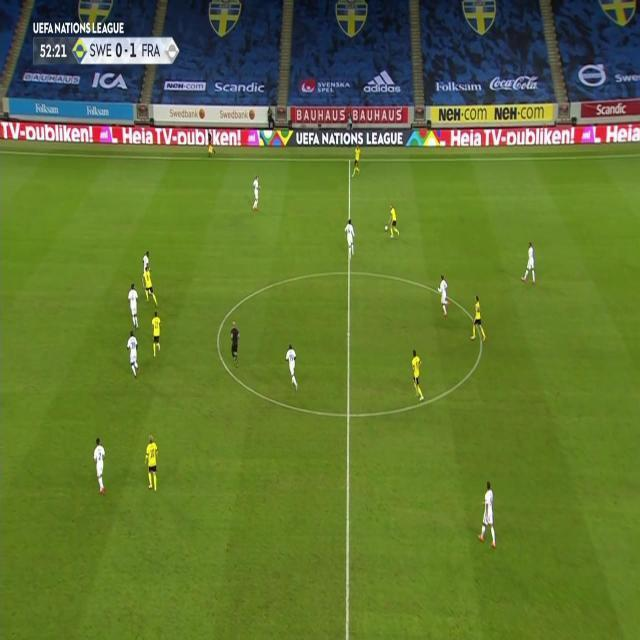player: (477, 481, 498, 548), (91, 436, 108, 496), (144, 431, 160, 493), (409, 348, 426, 402), (469, 294, 487, 342), (284, 341, 299, 392), (520, 240, 537, 285), (126, 331, 141, 378), (142, 266, 159, 305), (126, 282, 140, 329), (150, 308, 163, 358), (437, 274, 451, 317), (384, 202, 400, 237), (344, 217, 357, 259), (351, 142, 362, 177), (251, 174, 261, 212), (142, 249, 153, 271)
referee: (229, 319, 242, 366), (206, 131, 216, 156)
